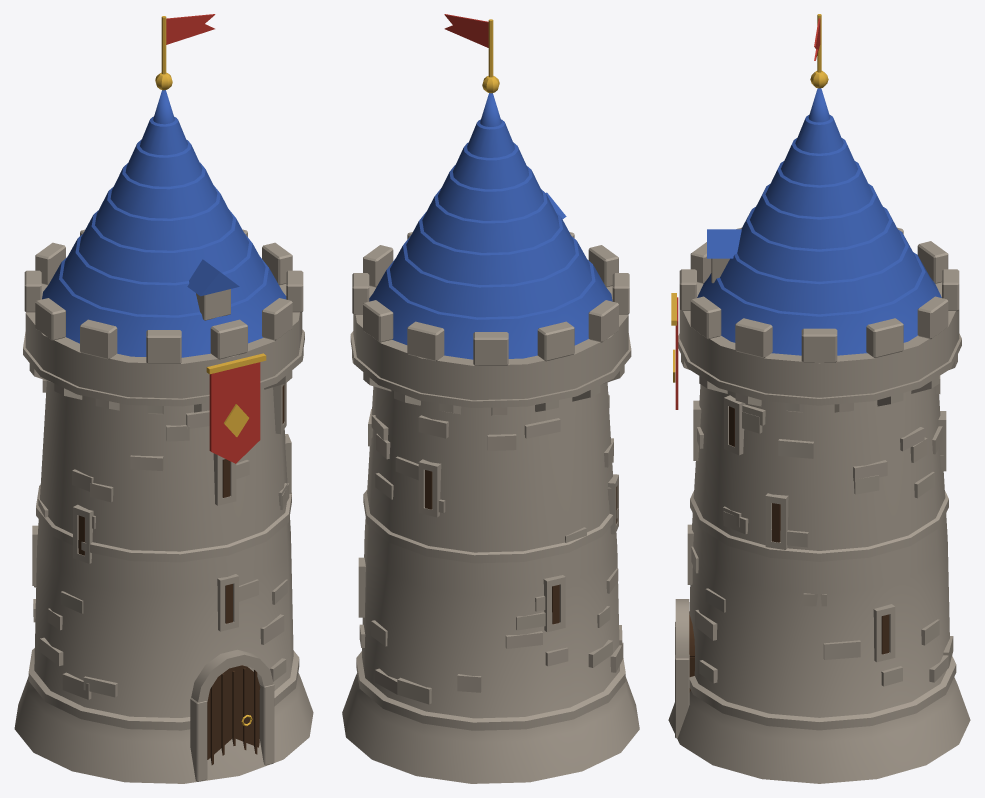
File: castle_tower.glb
3 views of the same model, side by side, from view 1: azimuth 30°, elevation 25°; view 2: azimuth 150°, elevation 25°; view 3: azimuth 270°, elevation 25° (orthographic).
Parts seen in each view (by area): view 1: castle_tower; view 2: castle_tower; view 3: castle_tower.
Boxes of the visible parts, <box> form: castle_tower: <box>14,14,313,783</box>; castle_tower: <box>342,14,639,783</box>; castle_tower: <box>668,14,970,783</box>.
Bounding box in the file's own units: 5.3 × 13.65 × 5.3.
